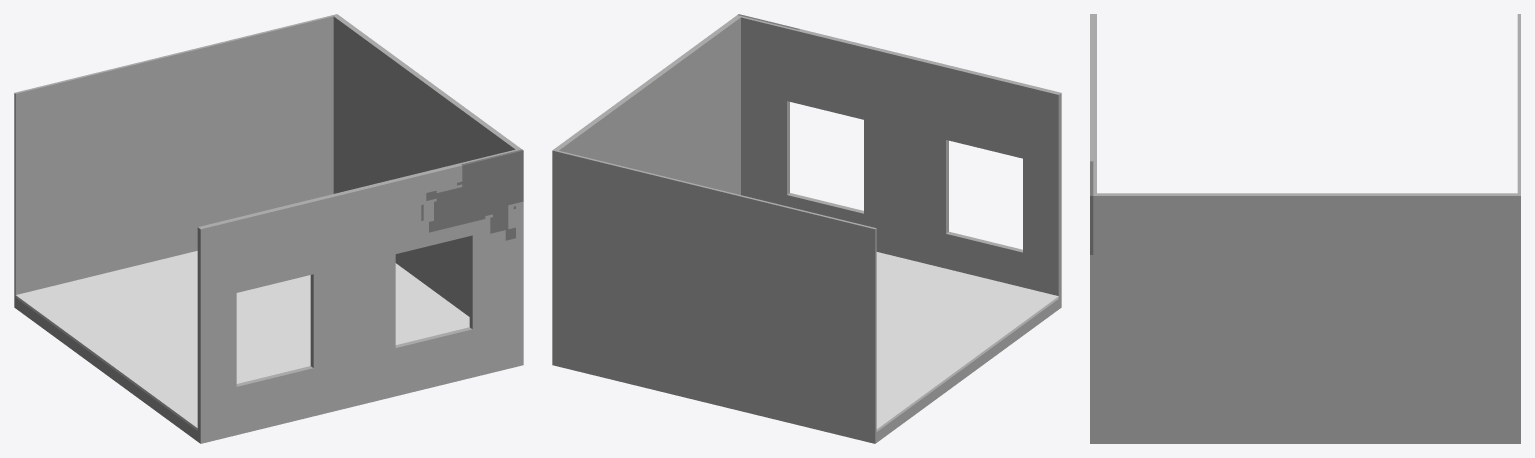
Rendered from 4x2 second-7.obj.
3 views of the same model, side by side, from view 1: azimuth 30°, elevation 25°; view 2: azimuth 150°, elevation 25°; view 3: azimuth 270°, elevation 25° (orthographic). The views are drawn at different scales.
Parts seen in each view (by area): view 1: 4x2 second-7; view 2: 4x2 second-7; view 3: 4x2 second-7.
Boxes of the visible parts, bbox=[...] form: 4x2 second-7: bbox=[14, 14, 523, 443]; 4x2 second-7: bbox=[552, 14, 1061, 443]; 4x2 second-7: bbox=[1090, 14, 1520, 443].
Size of the model in its own units: 126 by 80 by 126.
1 material, 1 textured.
